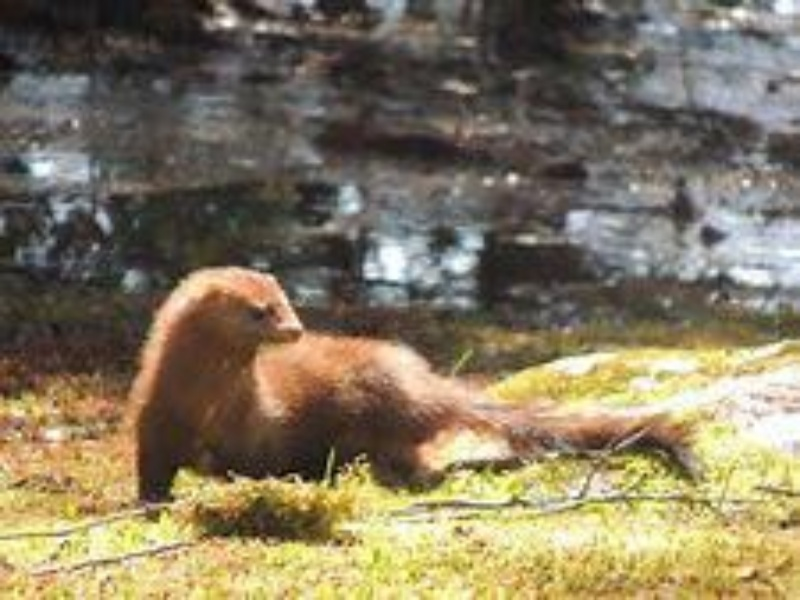minkish: (125, 265, 702, 524)
